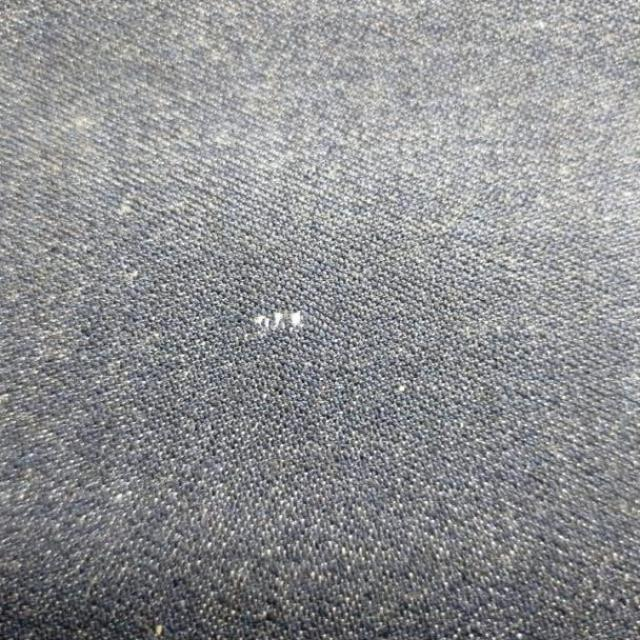Knot: (252, 312, 302, 330)
